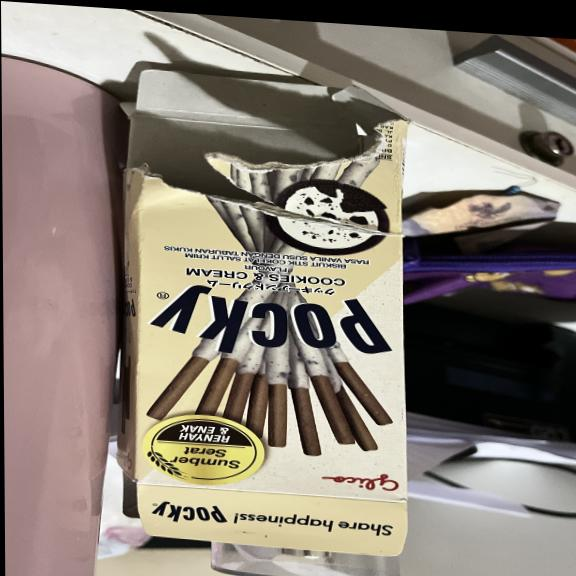Kertas: (135, 115, 407, 497)
